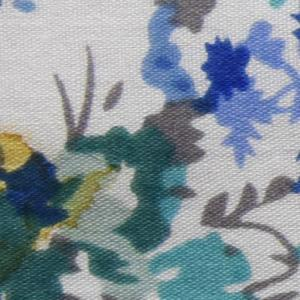Oil Stain: (1, 131, 119, 287)
